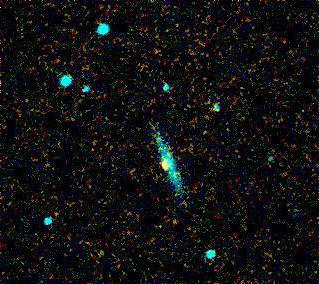star: (151, 150, 181, 180)
